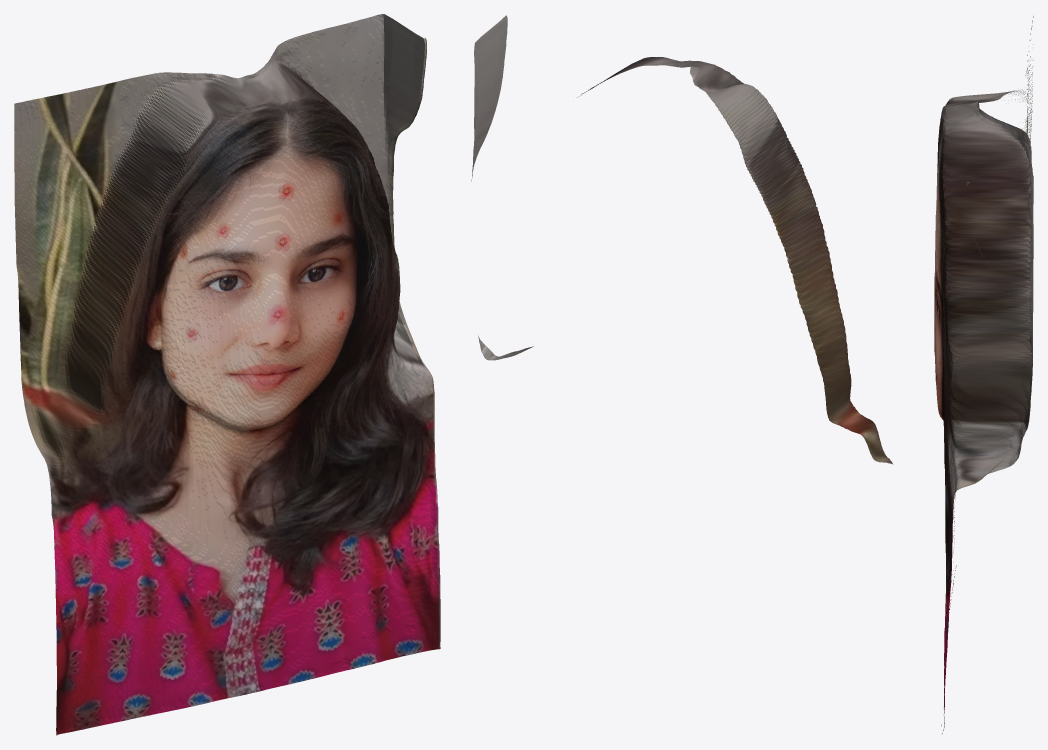
Rendered from holo_depth_1410892592_draco.glb.
The picture shows the model from 3 angles, left to right: view 1: azimuth 30°, elevation 25°; view 2: azimuth 150°, elevation 25°; view 3: azimuth 270°, elevation 25°; orthographic projection. The views are drawn at different scales.
Parts seen in each view (by area): view 1: world; view 2: world; view 3: world.
Boxes of the visible parts, <box> form: world: <box>14,14,440,735</box>; world: <box>471,15,893,464</box>; world: <box>934,16,1033,733</box>.
Size of the model in its own units: 0.6535 by 0.9991 by 0.1625.
Materials: 1 (1 with a texture image).
